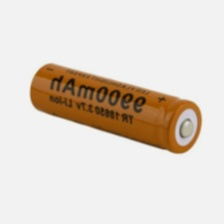battery: (24, 59, 206, 158)
